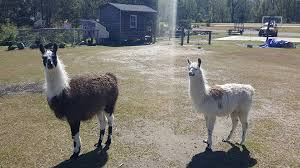alpaca: (38, 42, 119, 160), (184, 56, 257, 151)
